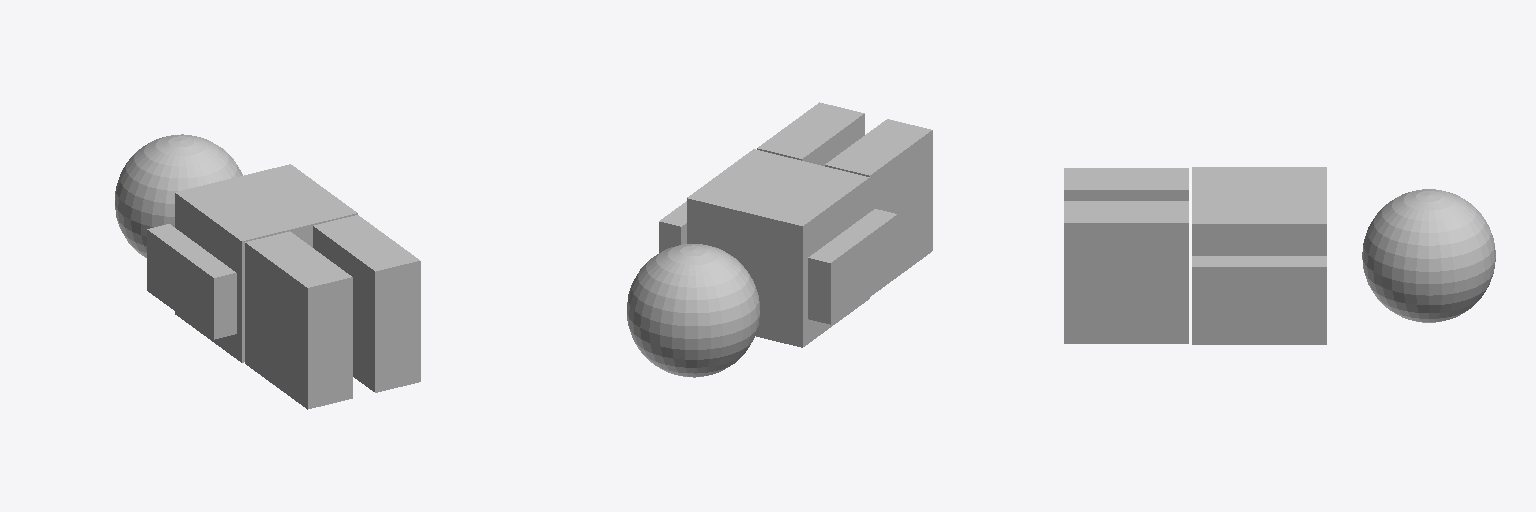
Rendered from sporty_robot_animation_000010.obj.
3 views of the same model, side by side, from view 1: azimuth 30°, elevation 25°; view 2: azimuth 150°, elevation 25°; view 3: azimuth 270°, elevation 25° (orthographic).
Visible parts, largest first — view 1: Cube.002, Cube.001_Cube.005, Cube, Sphere.001, Cube.004; view 2: Cube, Sphere.001, Cube.002, Cube.004, Cube.001_Cube.005, Cube.003; view 3: Cube.001_Cube.005, Cube, Sphere.001, Cube.003, Cube.002.
Boxes of the visible parts, x1=… form: Cube.002: x1=245, y1=231, x2=352, y2=409; Cube.001_Cube.005: x1=313, y1=215, x2=420, y2=392; Cube: x1=175, y1=164, x2=357, y2=362; Sphere.001: x1=115, y1=134, x2=242, y2=257; Cube.004: x1=147, y1=224, x2=236, y2=339; Cube: x1=687, y1=149, x2=869, y2=347; Sphere.001: x1=627, y1=244, x2=759, y2=377; Cube.002: x1=825, y1=119, x2=932, y2=296; Cube.004: x1=808, y1=209, x2=897, y2=324; Cube.001_Cube.005: x1=757, y1=102, x2=864, y2=165; Cube.003: x1=659, y1=201, x2=686, y2=252; Cube.001_Cube.005: x1=1064, y1=201, x2=1188, y2=343; Cube: x1=1192, y1=167, x2=1326, y2=344; Sphere.001: x1=1362, y1=189, x2=1495, y2=322; Cube.003: x1=1192, y1=256, x2=1326, y2=328; Cube.002: x1=1064, y1=168, x2=1188, y2=200.
Bounding box in the file's own units: 0.76 × 0.514 × 1.66.